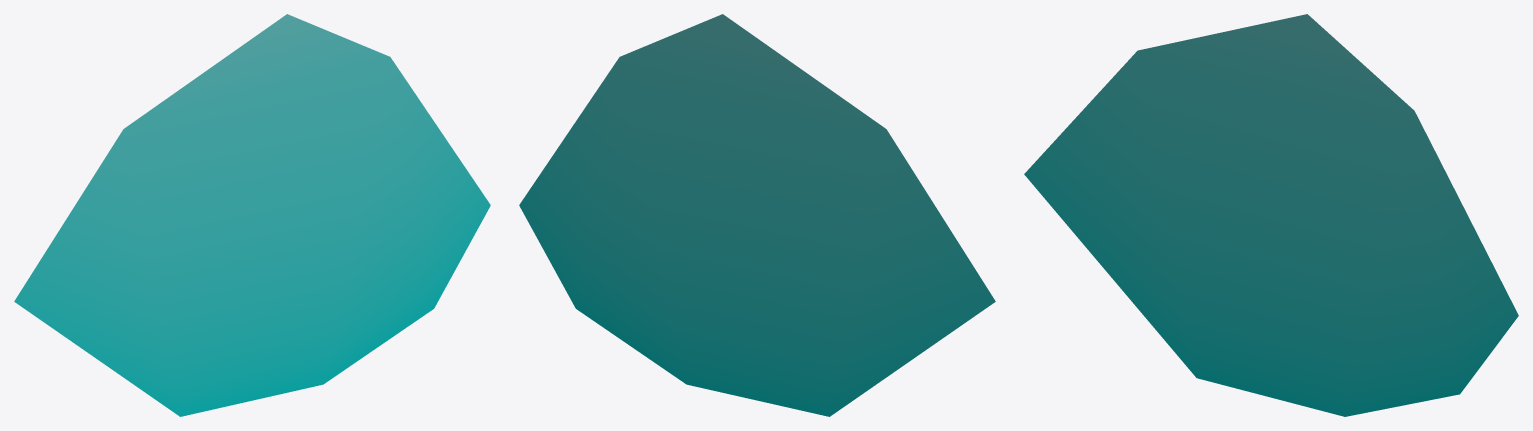
Rendered from Wild_Grass_vlkhcbxia_Low_vlkhcbxia_VarA_LOD2.fbx.
The picture shows the model from 3 angles, left to right: view 1: azimuth 30°, elevation 25°; view 2: azimuth 150°, elevation 25°; view 3: azimuth 330°, elevation 25°; orthographic projection. The views are drawn at different scales.
Parts seen in each view (by area): view 1: _0ygx_VarA_LOD4; view 2: _0ygx_VarA_LOD4; view 3: _0ygx_VarA_LOD4.
Boxes of the visible parts, x1,y1,x2,y2 form: _0ygx_VarA_LOD4: (14, 14, 490, 416); _0ygx_VarA_LOD4: (519, 14, 995, 416); _0ygx_VarA_LOD4: (1024, 14, 1518, 416).
Bounding box in the file's own units: 53.05 × 40.34 × 0.
